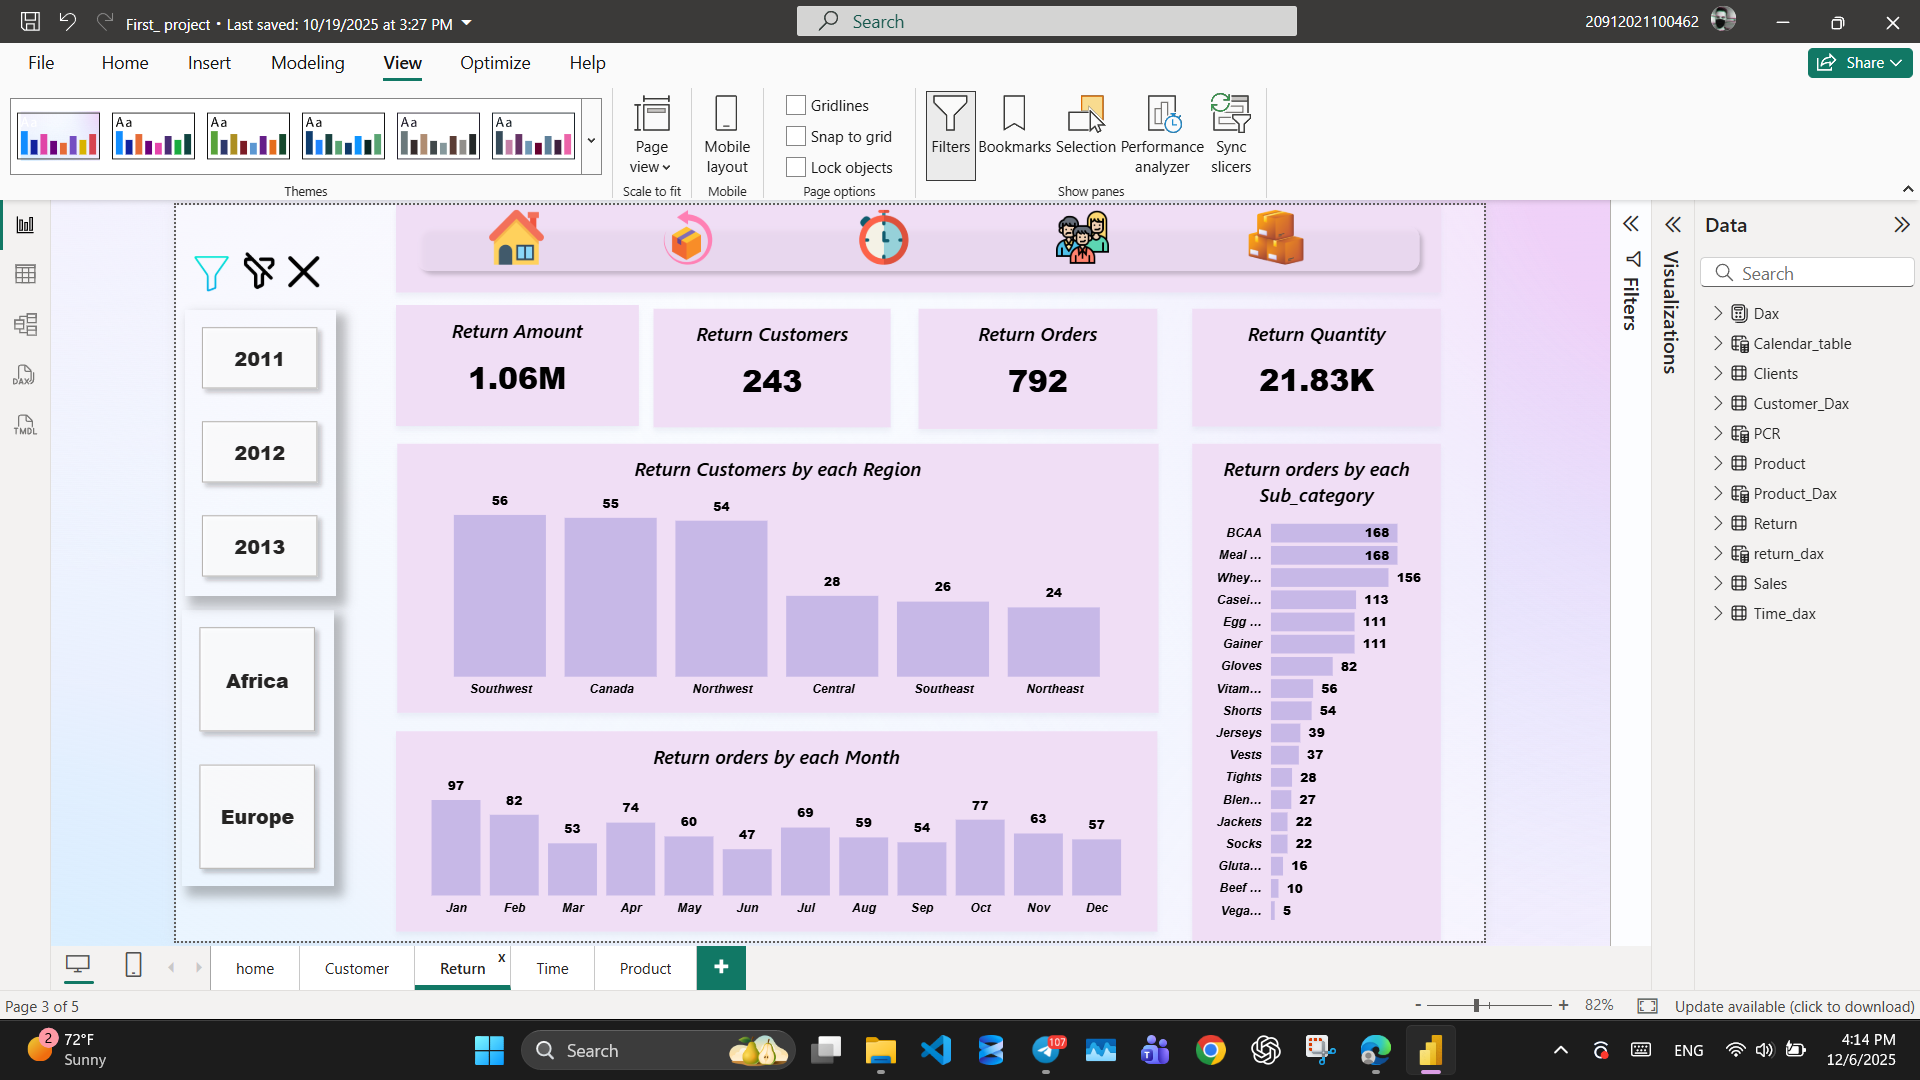

This screenshot's page, from the dashboard's own definition file:
{"tool":"powerbi","page":{"name":"Return","canvas":[1280,720],"ordinal":2},"visuals":[{"type":"advancedSlicerVisual","fields":{"Values":["Calendar_table.year"]},"box":[8.6,102.7,148,280],"z":2000},{"type":"advancedSlicerVisual","fields":{"Values":["Clients.Continent"]},"box":[6.1,396.2,148,270.2],"z":3000},{"type":"shape","box":[215.2,0,1022.3,85.6],"z":4000},{"type":"image","box":[95.4,45.2,58.7,40.4],"z":5000},{"type":"image","box":[50.1,41.6,62.4,50.1],"z":6000},{"type":"image","box":[0,45.2,69.7,44],"z":7000},{"type":"image","box":[275.6,0,116.7,63.3],"z":8000},{"type":"image","box":[814.4,0,145.5,63.6],"z":9000},{"type":"image","box":[624.4,0,135.3,63.3],"z":10000},{"type":"image","box":[439,0,124.7,63.6],"z":11000},{"type":"image","box":[1015.4,0,122.9,63.3],"z":12000},{"type":"card","title":"Return Amount","fields":{"Values":["return_dax.return_amout"]},"box":[215.2,97.8,237.2,118.6],"z":13000},{"type":"card","title":"Return Customers","fields":{"Values":["return_dax.return_customers"]},"box":[467.1,101.5,232.3,116.2],"z":16000},{"type":"card","title":"Return Orders","fields":{"Values":["return_dax.return_orders"]},"box":[726.4,101.5,233.6,117.4],"z":19000},{"type":"card","title":"Return Quantity","fields":{"Values":["return_dax.return_qty"]},"box":[994.2,101.5,243.3,114.9],"z":22000},{"type":"clusteredColumnChart","title":"Return Customers by each Region","fields":{"Category":["Clients.Region"],"Y":["return_dax.return_customers"]},"box":[216.4,233.6,744.7,262.9],"z":23000},{"type":"clusteredBarChart","title":"Return orders by each Sub_category","fields":{"Category":["Product.SubcategoryName"],"Y":["return_dax.return_orders"]},"box":[994.2,233.6,243.3,486.7],"z":24000},{"type":"clusteredColumnChart","title":"Return orders by each Month","fields":{"Y":["return_dax.return_orders"],"Category":["Calendar_table.month_name"]},"box":[215.2,514.8,744.7,195.7],"z":25000}]}

Visuals, with their boxes on the page's 1280x720 design canvas (x1, y1, x2, y2). These are canvas units, not pixel positions in the 1920x1080 screenshot, which may show the page scaled, cropped or inside an application window:
advancedSlicerVisual - Calendar_table.year: 9:103:157:383
advancedSlicerVisual - Clients.Continent: 6:396:154:666
shape: 215:0:1238:86
image: 95:45:154:86
image: 50:42:112:92
image: 0:45:70:89
image: 276:0:392:63
image: 814:0:960:64
image: 624:0:760:63
image: 439:0:564:64
image: 1015:0:1138:63
"Return Amount" card: 215:98:452:216
"Return Customers" card: 467:102:699:218
"Return Orders" card: 726:102:960:219
"Return Quantity" card: 994:102:1238:216
"Return Customers by each Region" clusteredColumnChart: 216:234:961:496
"Return orders by each Sub_category" clusteredBarChart: 994:234:1238:720
"Return orders by each Month" clusteredColumnChart: 215:515:960:710
